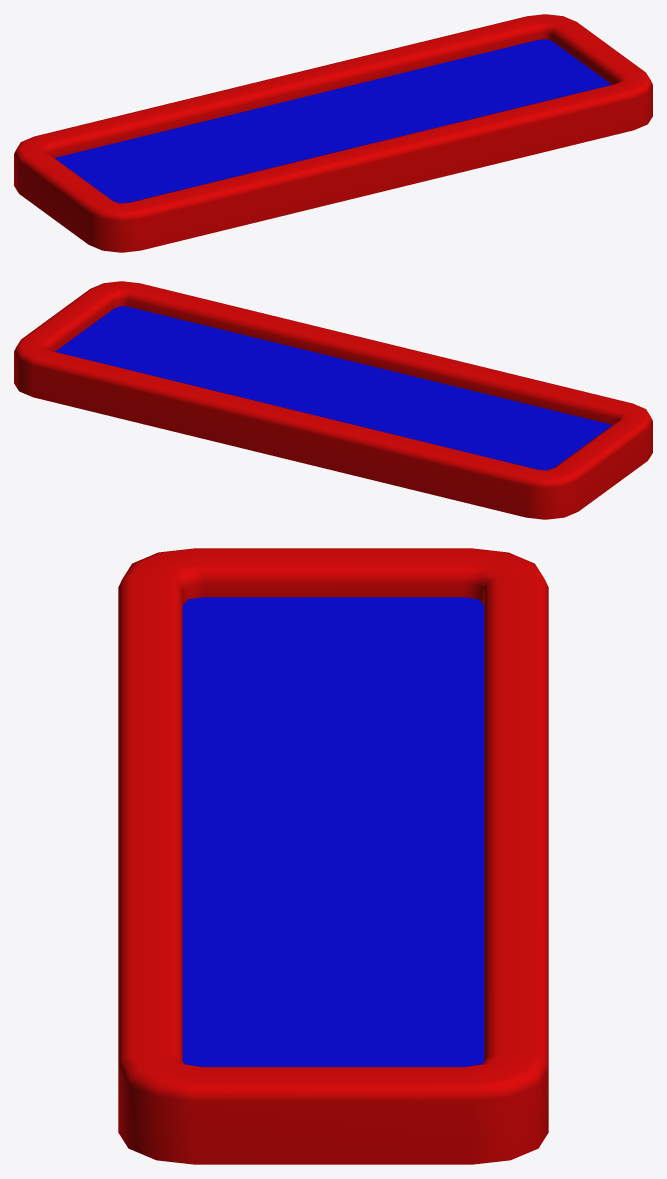
3 renders of one model, top to bottom at view 1: azimuth 30°, elevation 25°; view 2: azimuth 150°, elevation 25°; view 3: azimuth 270°, elevation 25°, orthographic. The views are drawn at different scales.
Visible parts, largest first — view 1: 1x3; view 2: 1x3; view 3: 1x3.
Part boxes in pixels (x1,y1,x2,y2): 1x3: (14,14,652,252); 1x3: (14,281,652,519); 1x3: (118,548,548,1164).
Size of the model in its own units: 600 by 38.86 by 200.
